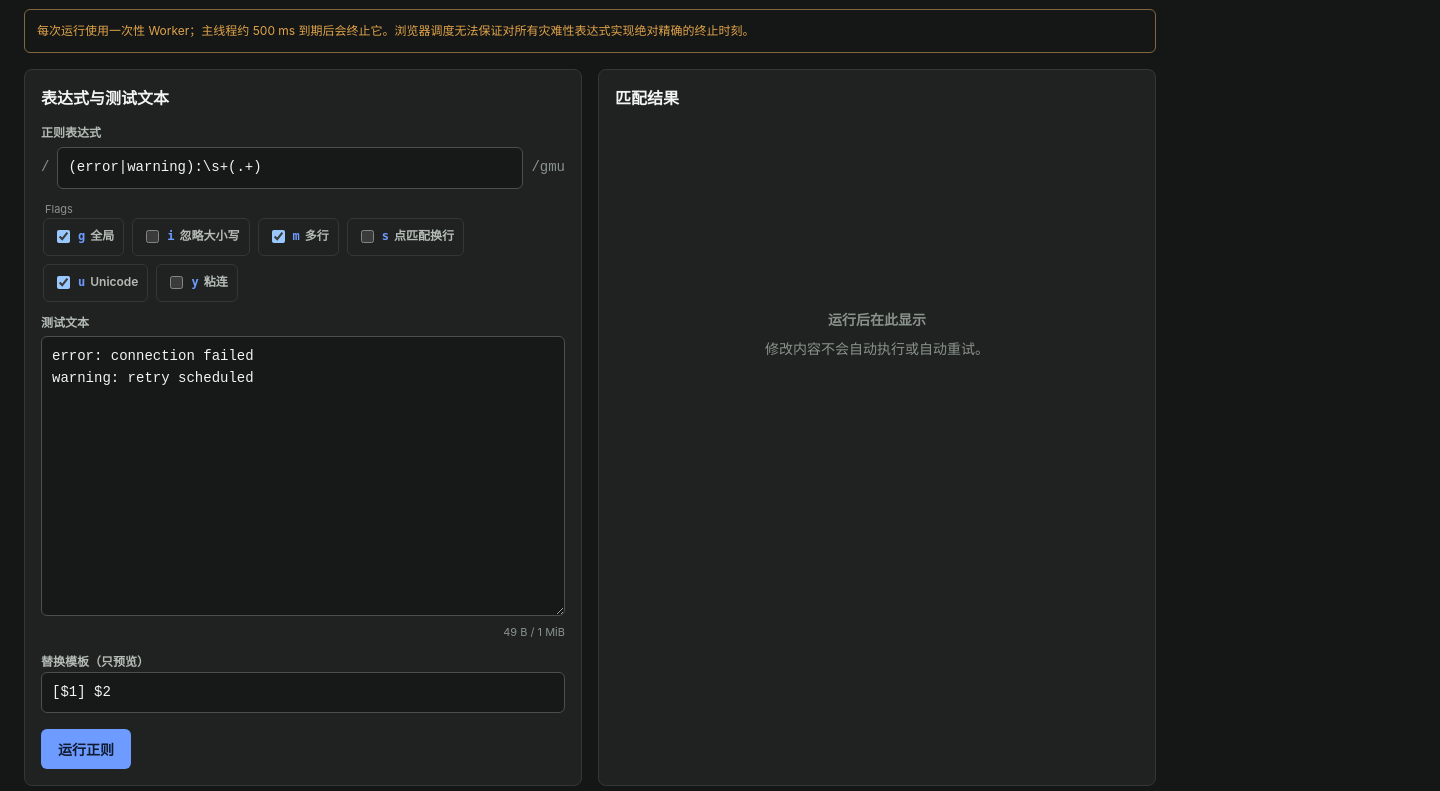
Test: RegexToolView stale result invalidation › invalidates the finished result and completion status when a flag is toggled after a run
(page scrolled)
Click the button with class "button--primary" at (86, 749), box [41,729,131,769]
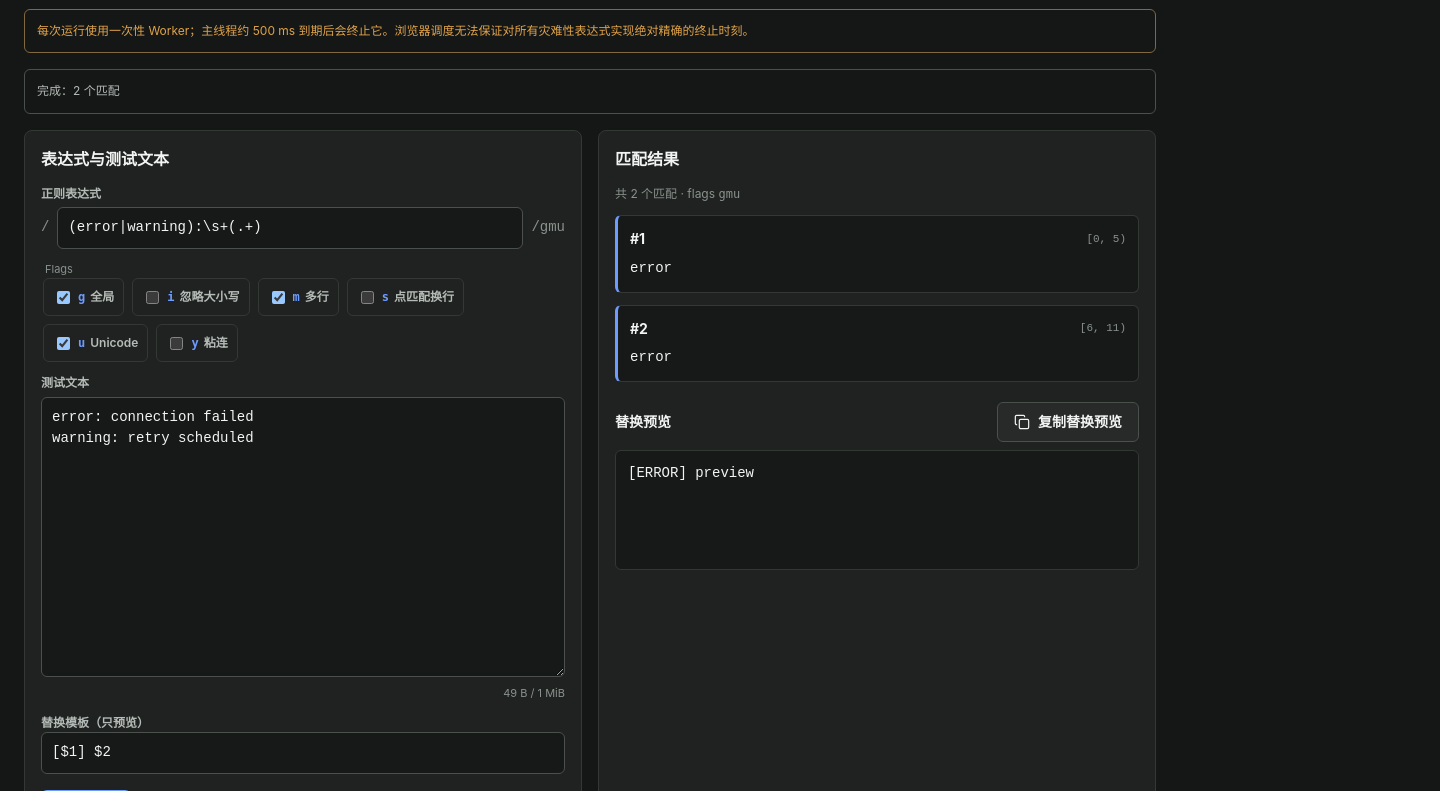
Now the text "共 2 个匹配" is shown, box [615,186,677,201]
Now the text "[ERROR] preview" is shown, box [615,450,1139,570]
Now the message "完成：2 个匹配" is shown, box [24,69,1156,114]
仅取消 g flag（flag-list 中第一个 checkbox），不重跑
Click the checkbox labelled "g 全局" at (64, 297), box [57,291,70,304]
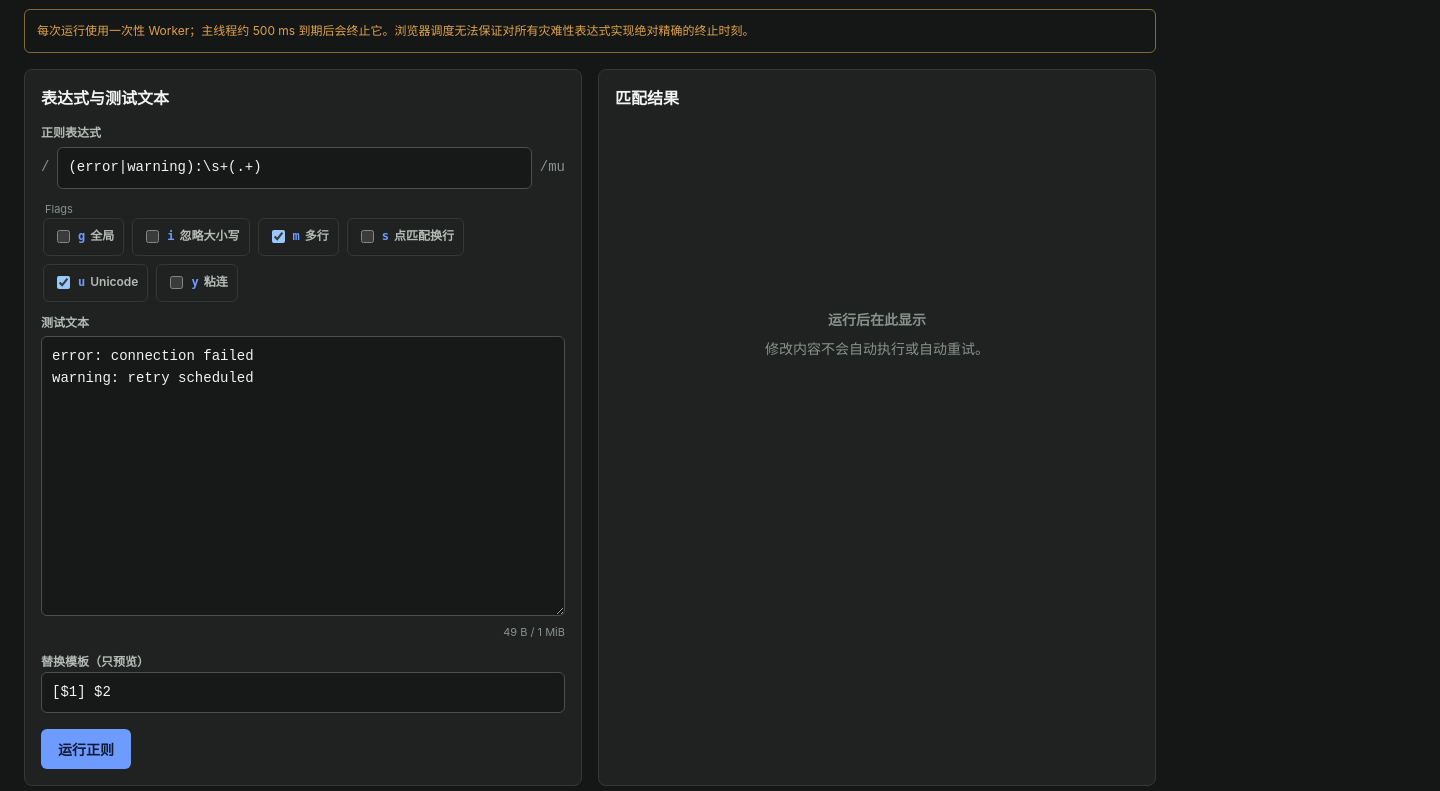
Now the element with class "empty-result" is shown, box [765,310,989,357]
Now the element with class "empty-result" shows "运行后在此显示", box [828,310,926,328]
